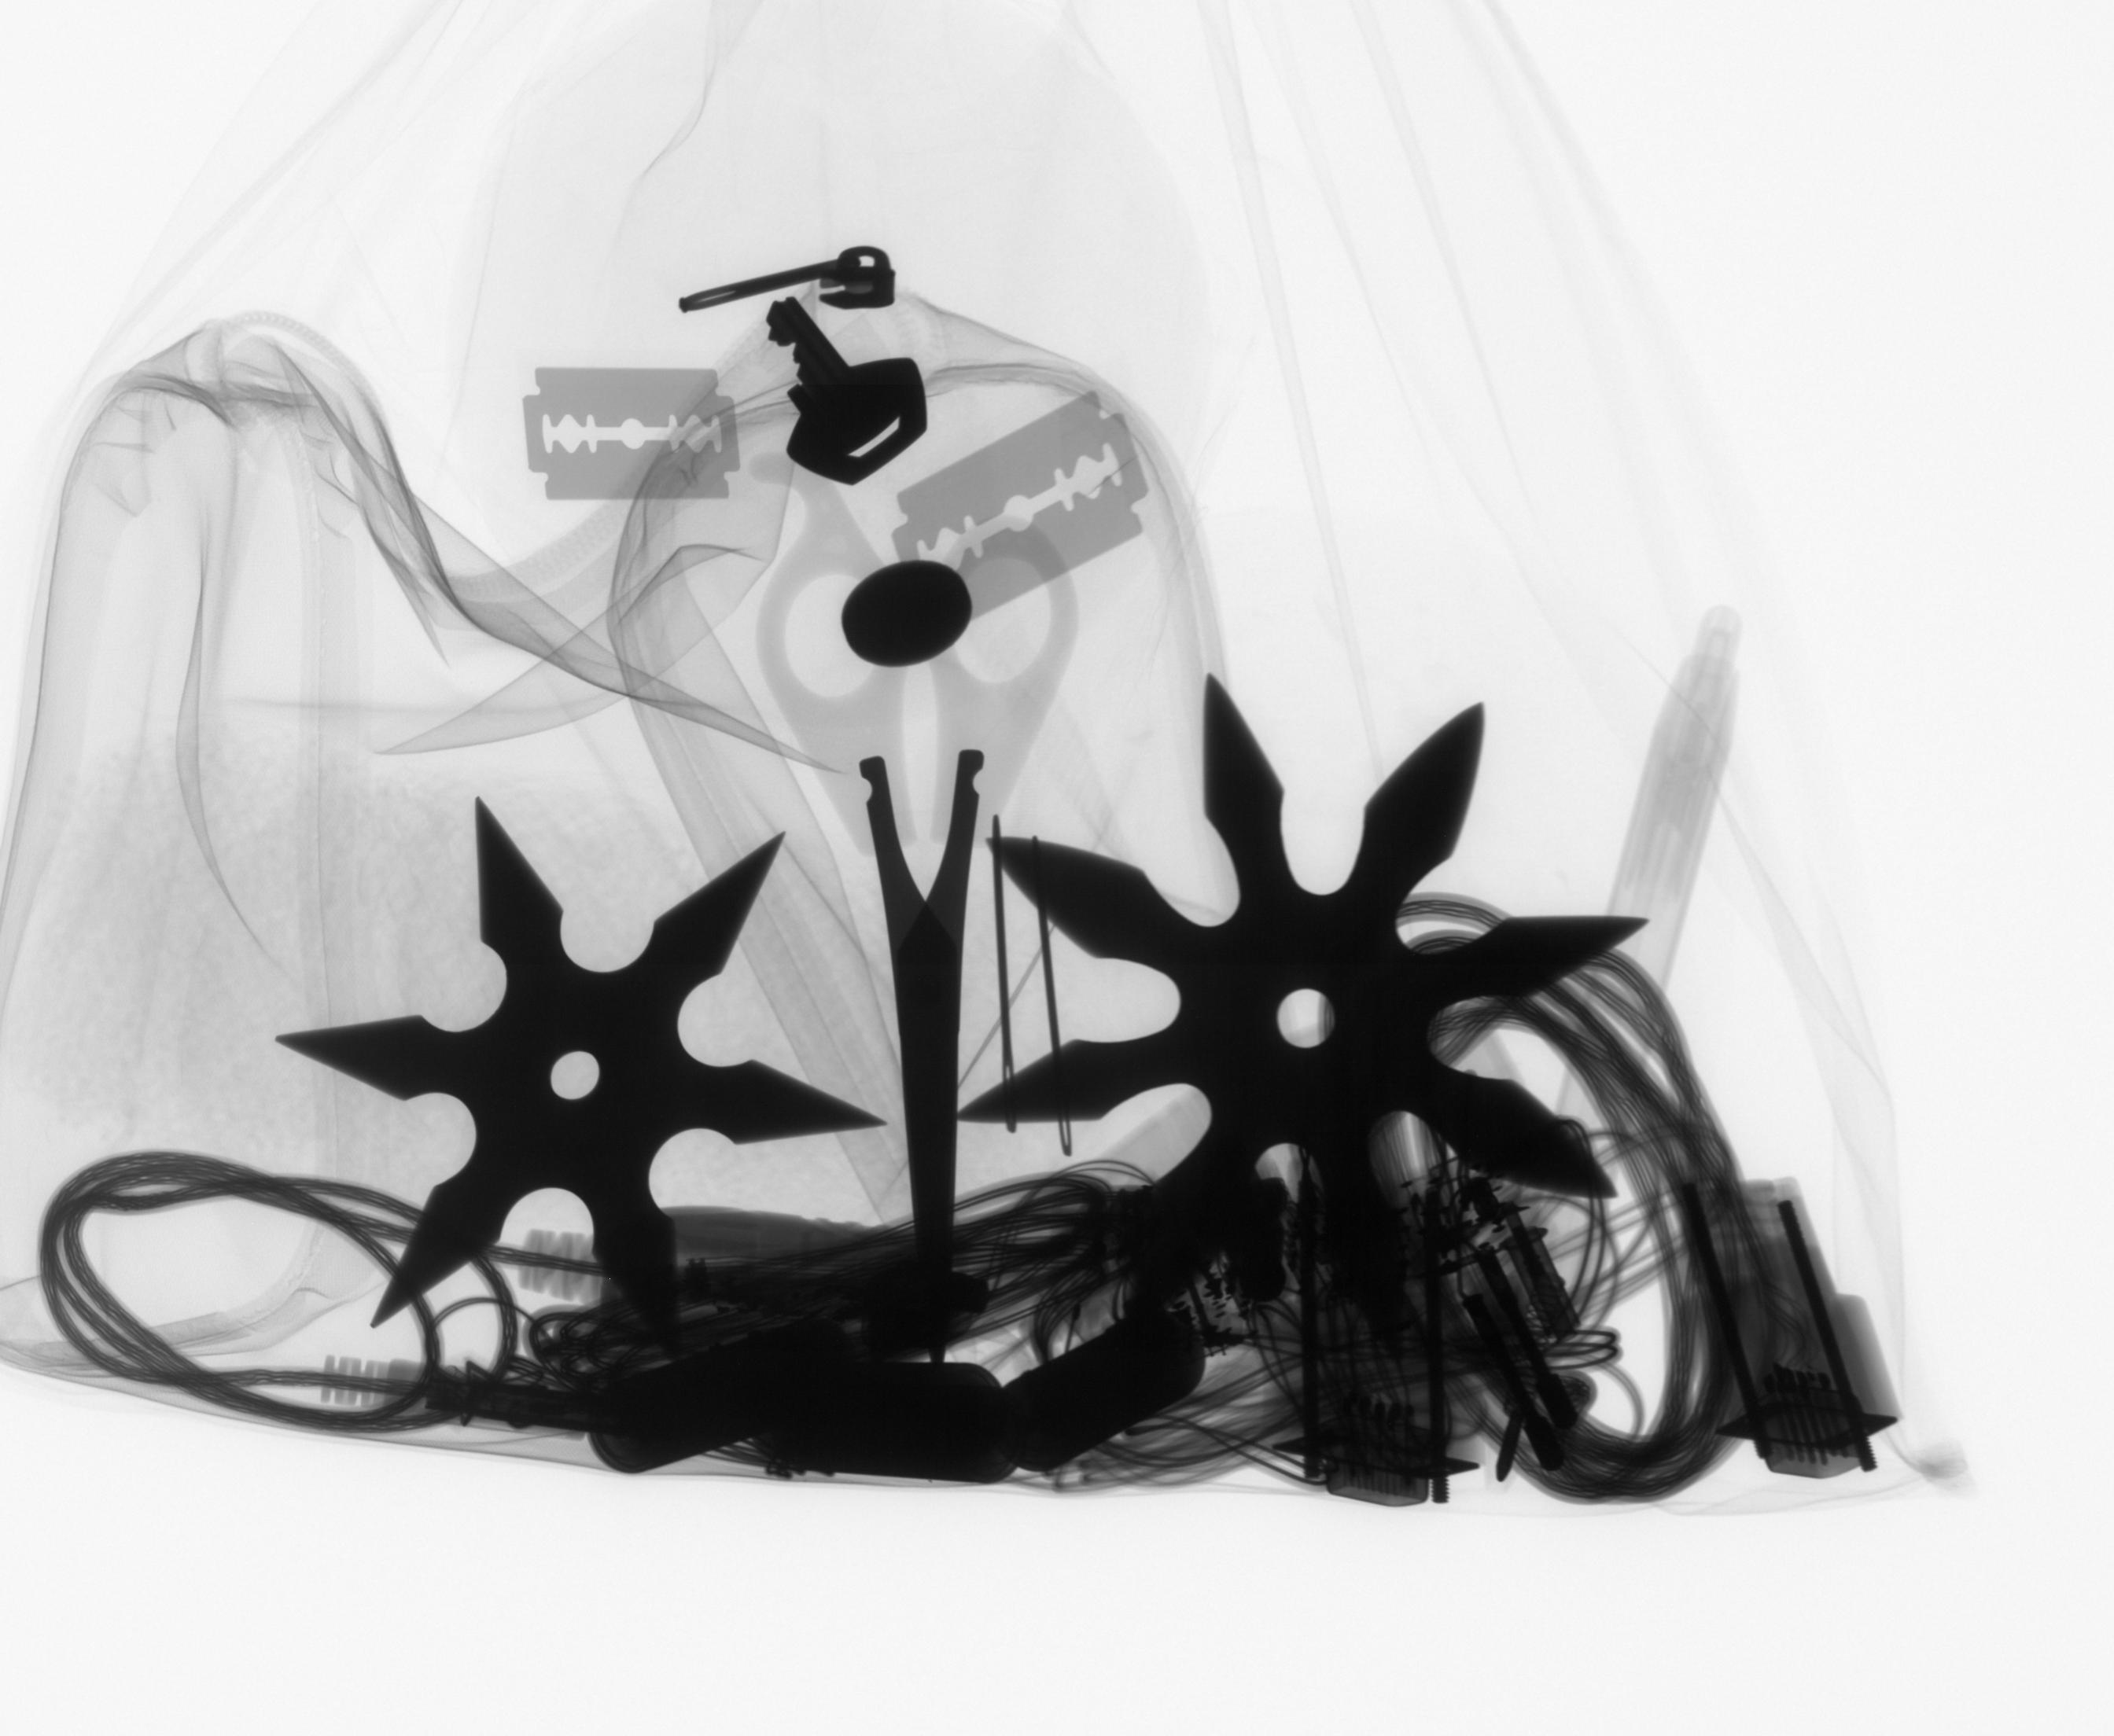RazorBlade: (881, 384, 1164, 644), (514, 358, 748, 513)
Shuriken: (948, 669, 1666, 1378), (263, 783, 894, 1392)
